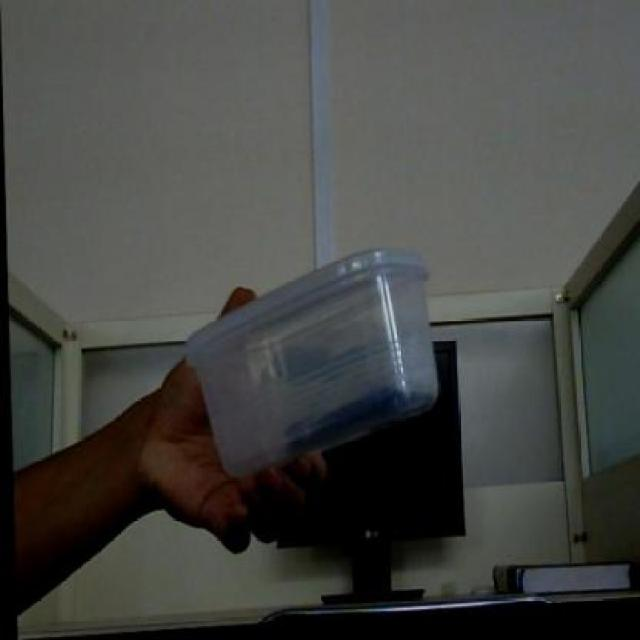Plastic: (182, 241, 442, 472)
